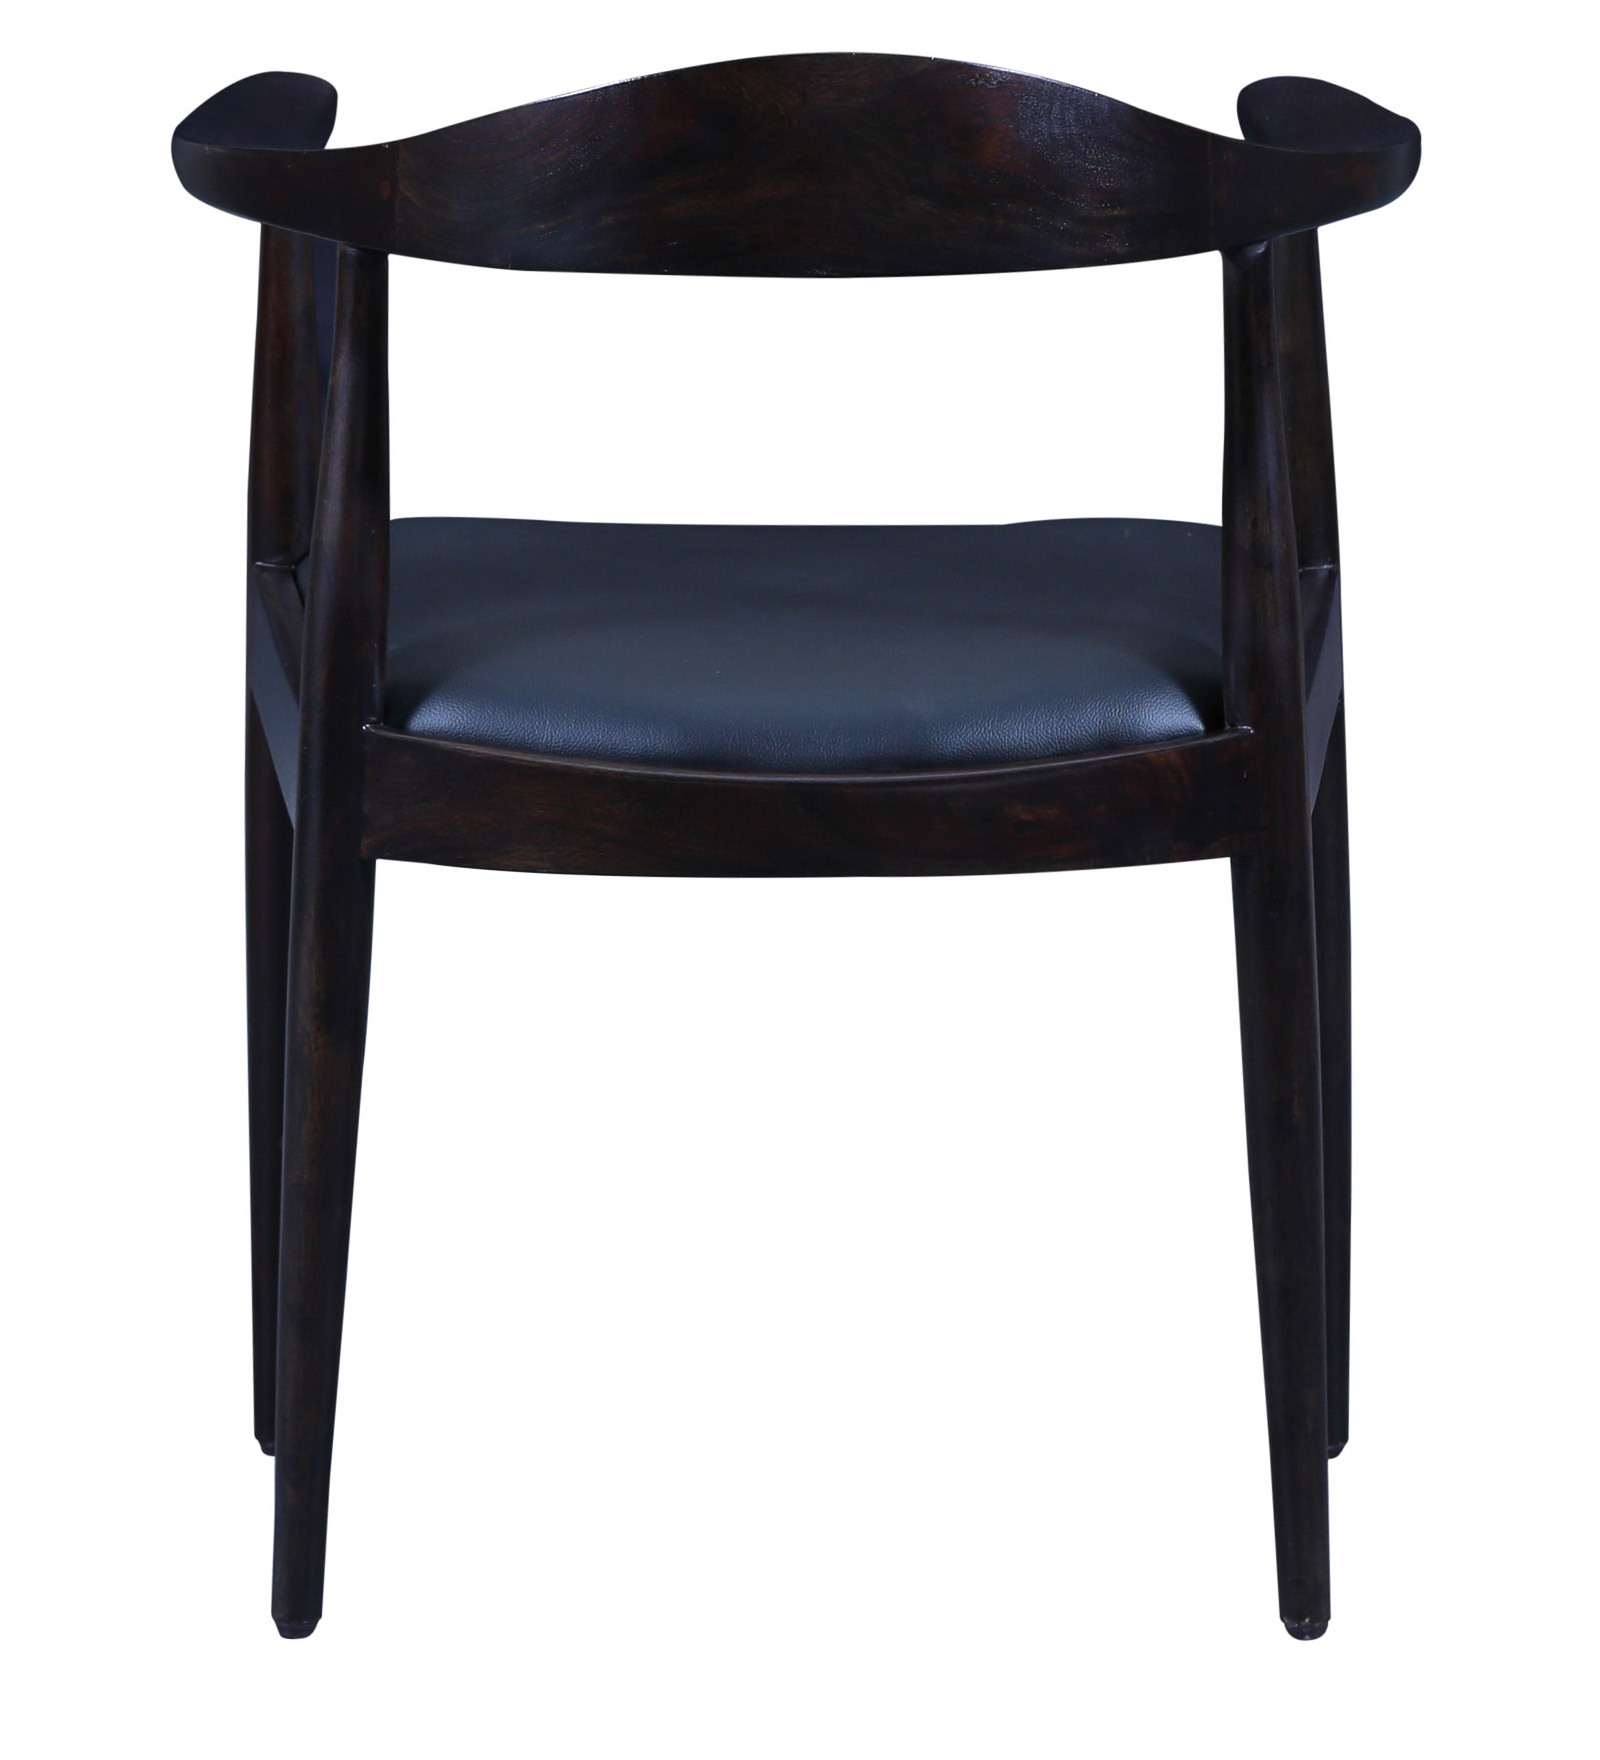Esvelt Arm Chair in Warm Chestnut Finish by Woodsworth: (106, 28, 1477, 1674)
